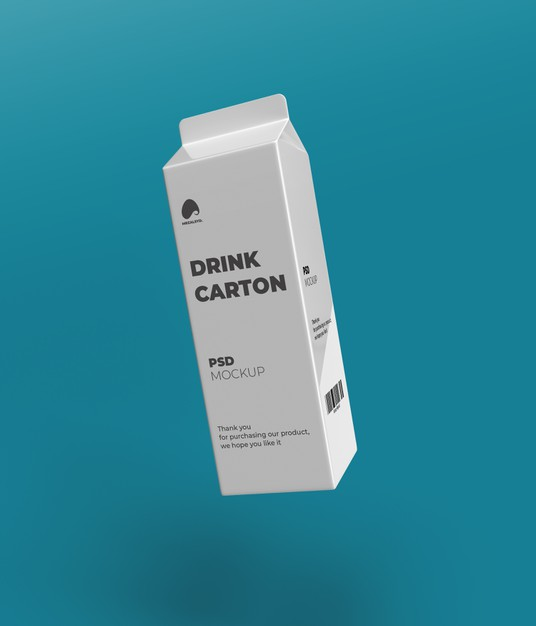carton: (140, 49, 397, 540)
